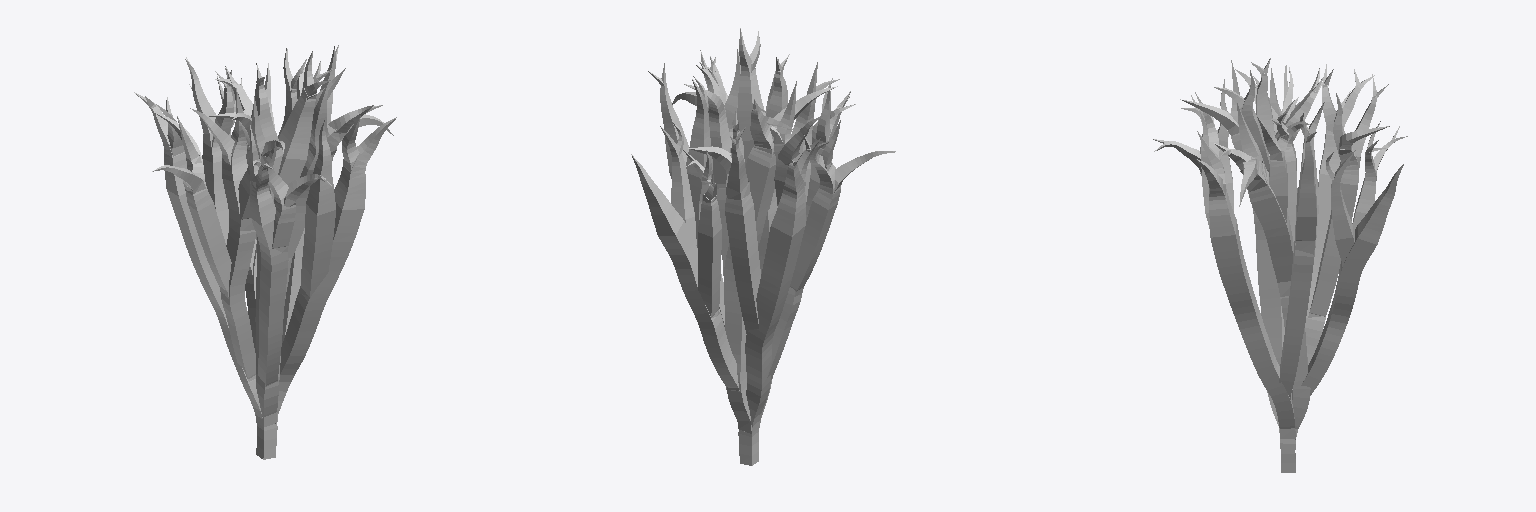
File: bendytree_000009.obj
The picture shows the model from 3 angles: view 1: azimuth 30°, elevation 25°; view 2: azimuth 150°, elevation 25°; view 3: azimuth 270°, elevation 25°; orthographic projection.
Parts seen in each view (by area): view 1: treemesh_treemesh.001; view 2: treemesh_treemesh.001; view 3: treemesh_treemesh.001.
Part boxes in pixels (left/top/right/bottom): treemesh_treemesh.001: left=134, top=45, right=396, bottom=459; treemesh_treemesh.001: left=631, top=28, right=895, bottom=465; treemesh_treemesh.001: left=1153, top=58, right=1407, bottom=472.
Size of the model in its own units: 3.87 by 6.52 by 3.69.